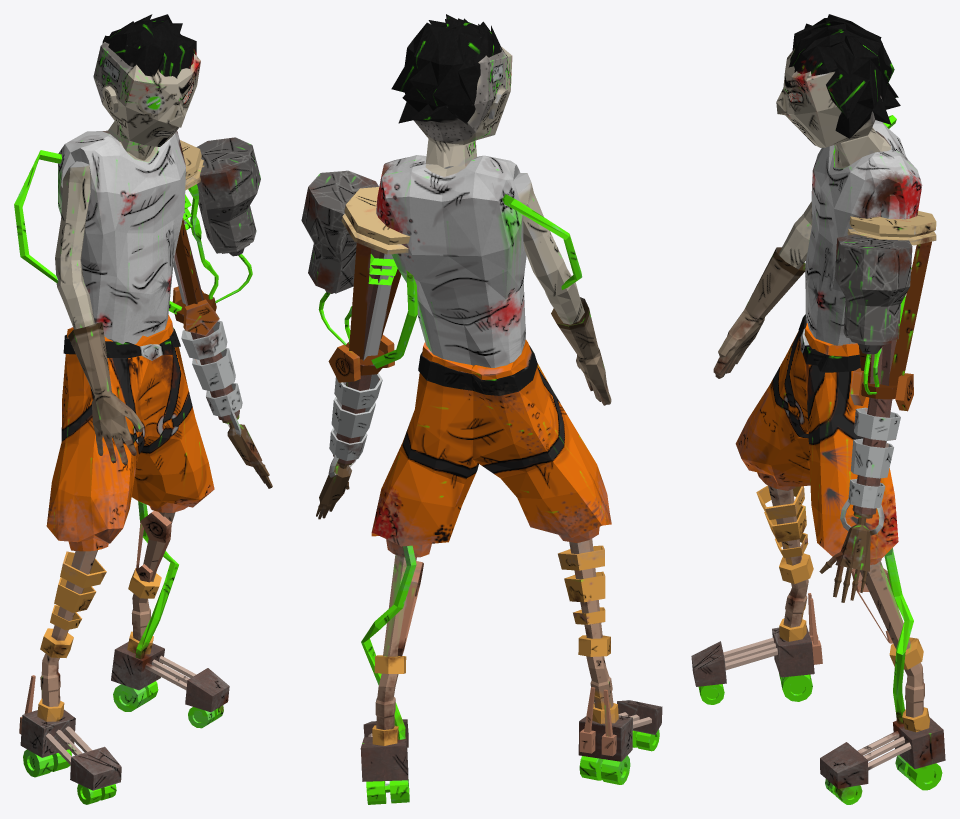
File: CyborgFINALAnimation_000157.obj
3 views of the same model, side by side, from view 1: azimuth 30°, elevation 25°; view 2: azimuth 150°, elevation 25°; view 3: azimuth 270°, elevation 25° (orthographic). The views are drawn at different scales.
Parts seen in each view (by area): view 1: CyborgMesh_Cube.002; view 2: CyborgMesh_Cube.002; view 3: CyborgMesh_Cube.002.
Part boxes in pixels (x1=…): CyborgMesh_Cube.002: x1=14, y1=14, x2=272, y2=804; CyborgMesh_Cube.002: x1=301, y1=14, x2=662, y2=804; CyborgMesh_Cube.002: x1=691, y1=14, x2=945, y2=804.
Size of the model in its own units: 3.75 by 9.69 by 2.98.
